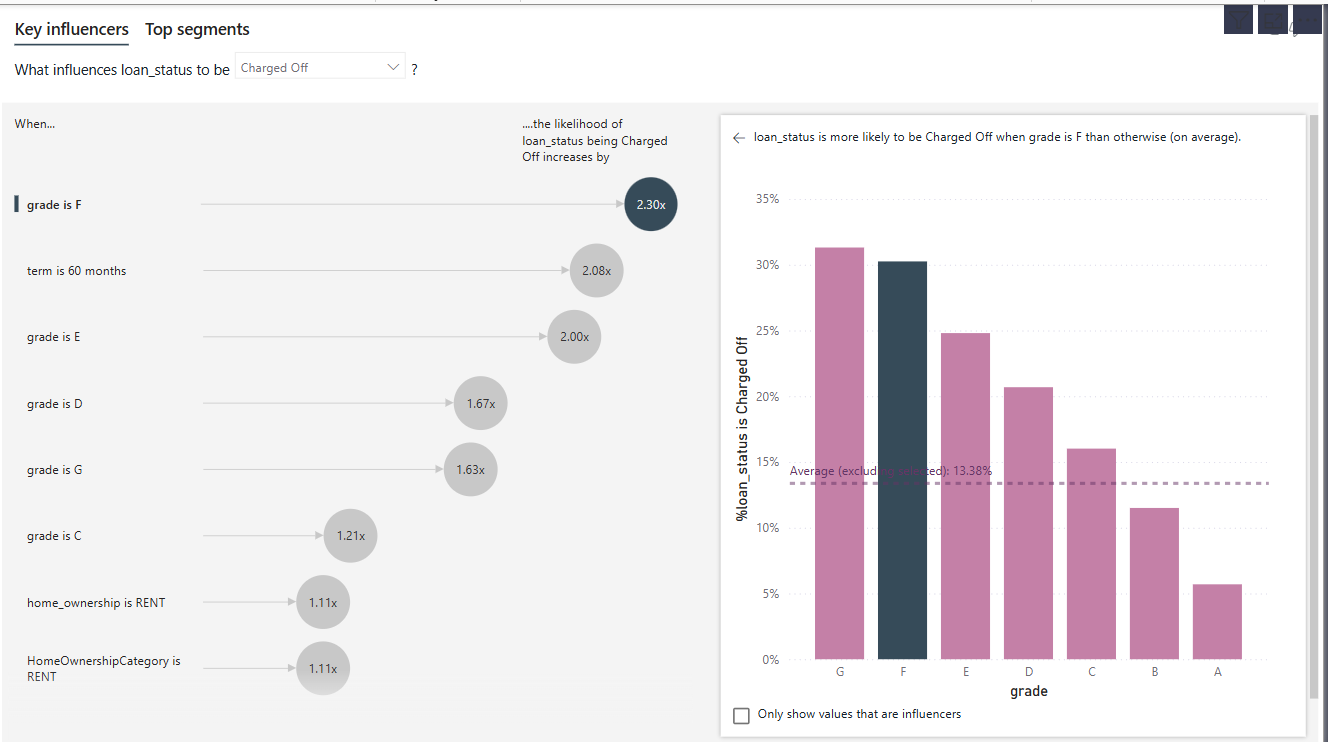

The page's visual inventory and layout, read from the dashboard file:
{"tool":"powerbi","page":{"name":"KPI","canvas":[1280,720],"ordinal":1},"visuals":[{"type":"keyDriversVisual","fields":{"Target":["financial_loan_data.loan_status"],"ExplainBy":["financial_loan_data.grade","financial_loan_data.home_ownership","financial_loan_data.HomeOwnershipCategory","financial_loan_data.term"]},"box":[0,0,1015.7,473.2],"z":3000}]}

Visuals, with their boxes on the page's 1280x720 design canvas (x1, y1, x2, y2). These are canvas units, not pixel positions in the 1328x742 screenshot, which may show the page scaled, cropped or inside an application window:
keyDriversVisual - financial_loan_data.loan_status x financial_loan_data.grade: <box>0,0,1016,473</box>
